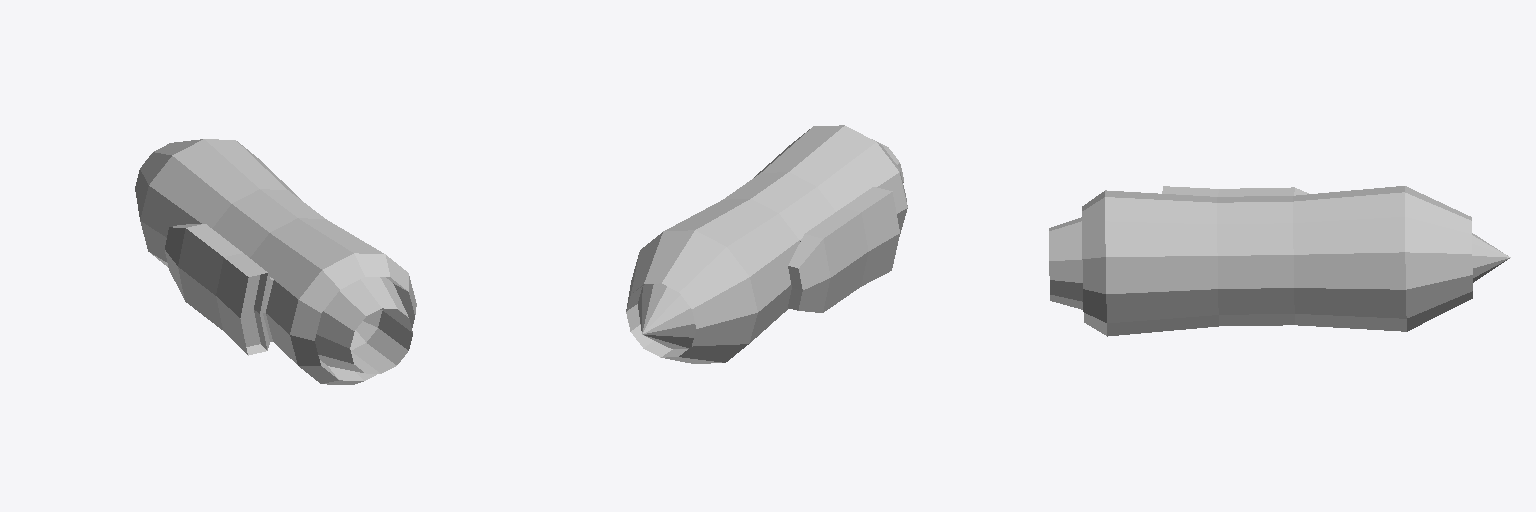
The model's file is engine.obj.
3 views of the same model, side by side, from view 1: azimuth 30°, elevation 25°; view 2: azimuth 150°, elevation 25°; view 3: azimuth 270°, elevation 25° (orthographic).
Size of the model in its own units: 1.83 by 1.63 by 4.96.